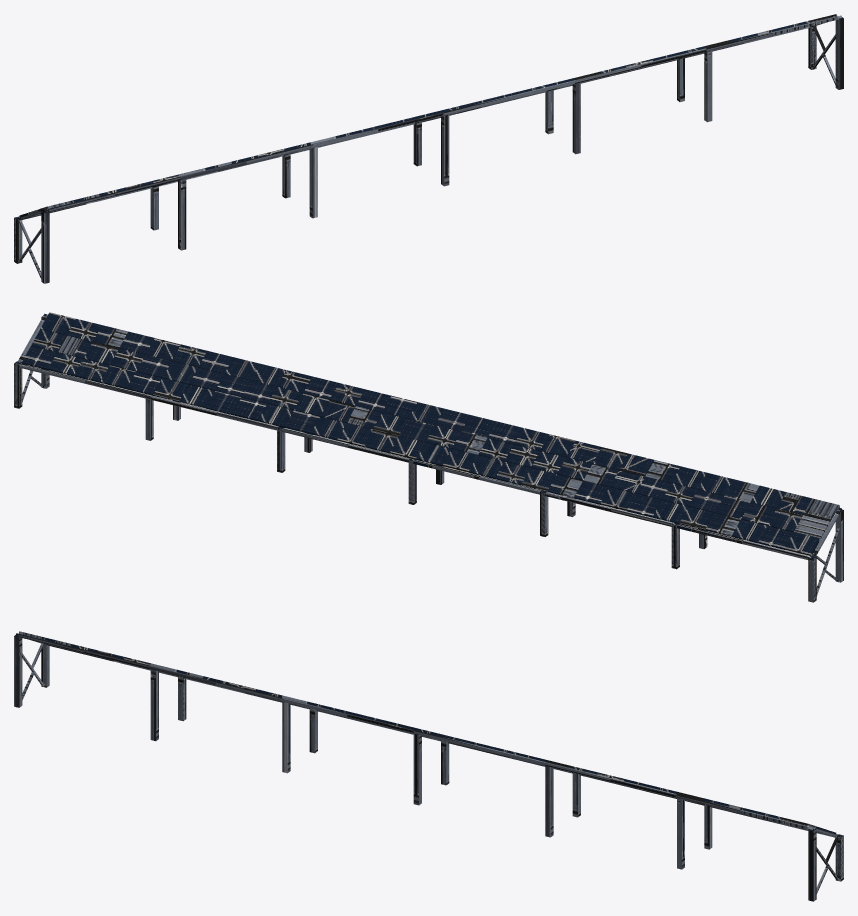
Rendered from inverter.obj.
The picture shows the model from 3 angles, top to bottom: view 1: azimuth 30°, elevation 25°; view 2: azimuth 150°, elevation 25°; view 3: azimuth 330°, elevation 25°; orthographic projection.
Parts seen in each view (by area): view 1: Meshy_AI__0722080659_texture; view 2: Meshy_AI__0722080659_texture; view 3: Meshy_AI__0722080659_texture.
Part boxes in pixels (x1,y1,x2,y2): Meshy_AI__0722080659_texture: (14,14,843,283); Meshy_AI__0722080659_texture: (14,312,843,602); Meshy_AI__0722080659_texture: (14,631,843,901).
Bounding box in the file's own units: 2 × 0.1805 × 0.1329.
